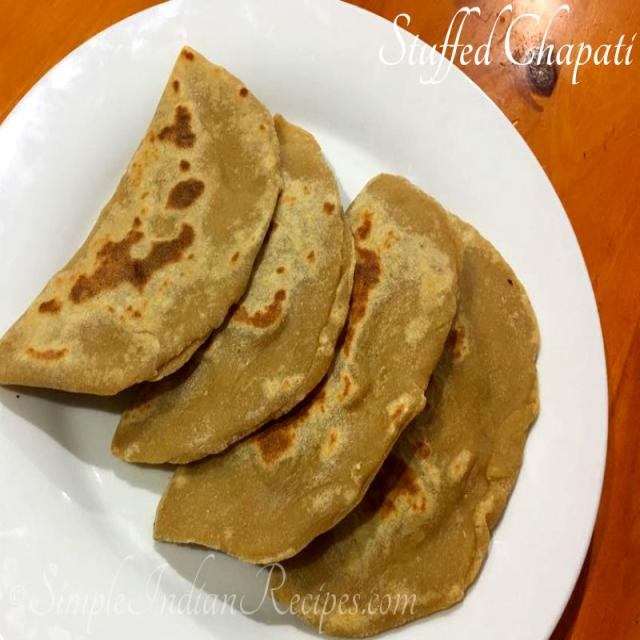chapati: (11, 42, 546, 632)
